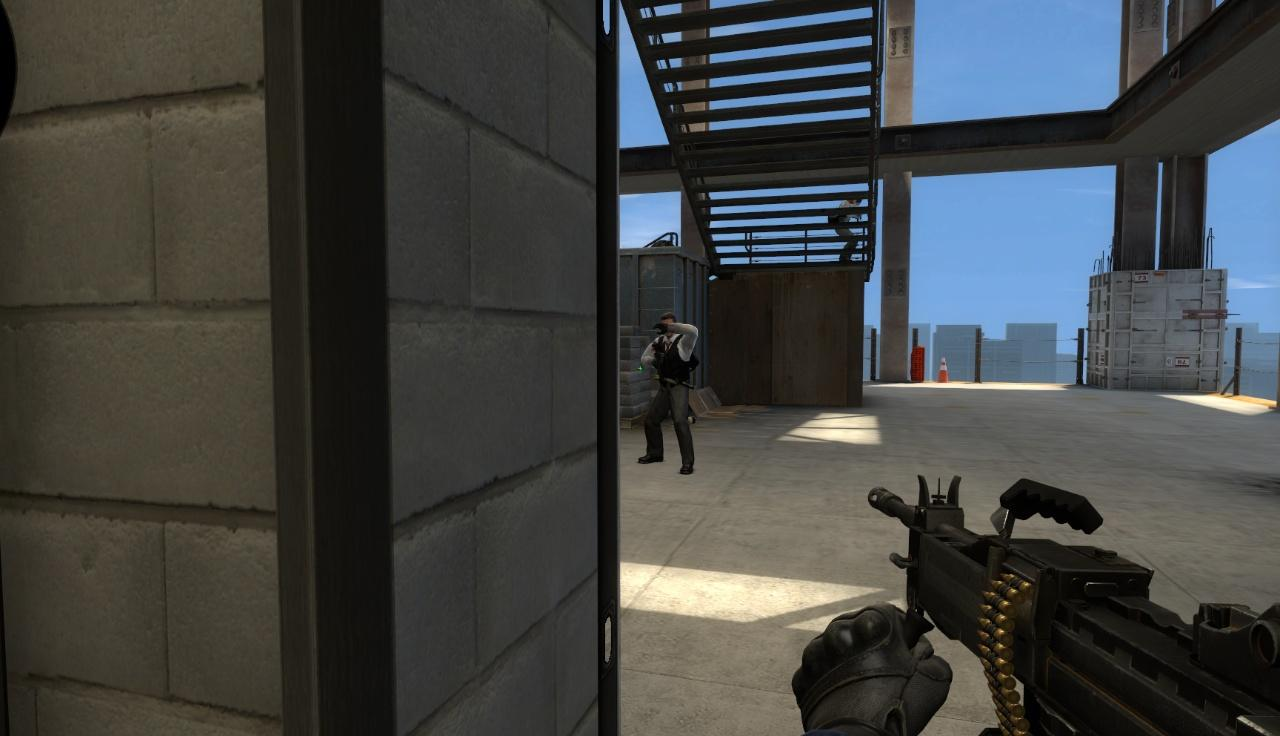rifle: (851, 468, 1280, 736)
tt: (649, 312, 691, 475), (833, 191, 861, 256)
tthead: (658, 313, 678, 338)
